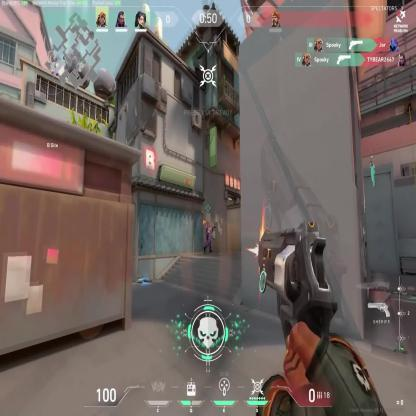enemy: (203, 220, 213, 253)
enemy_head: (208, 221, 210, 226)
